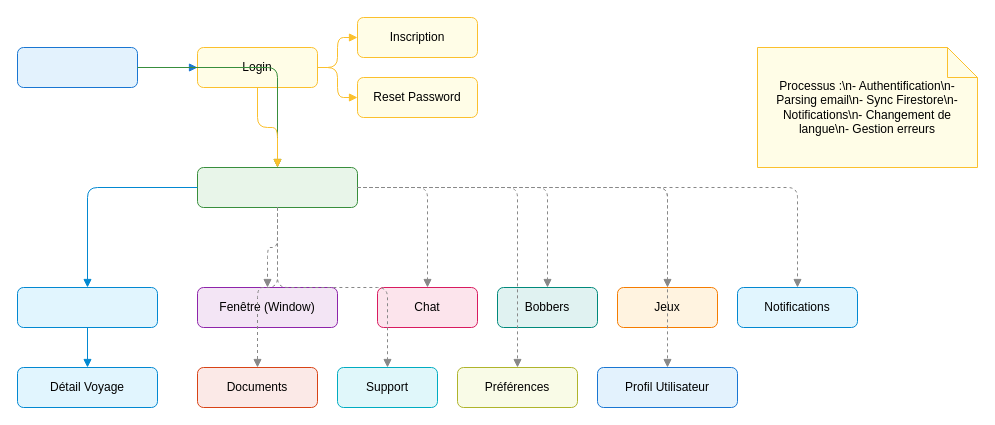
This 995x425 diagram has some shape labels left out. The centre of each missing label's shape, as x and y in pixels:
"Landing (Dashboard)" goes at (x=277, y=187).
"Splash/Loading" goes at (x=77, y=67).
"Voyages (Liste)" goes at (x=87, y=307).
